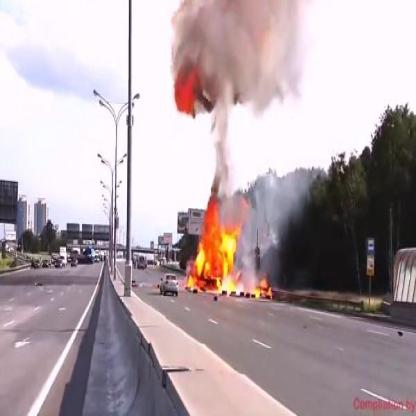fire: (186, 188, 245, 297), (253, 274, 275, 302)
